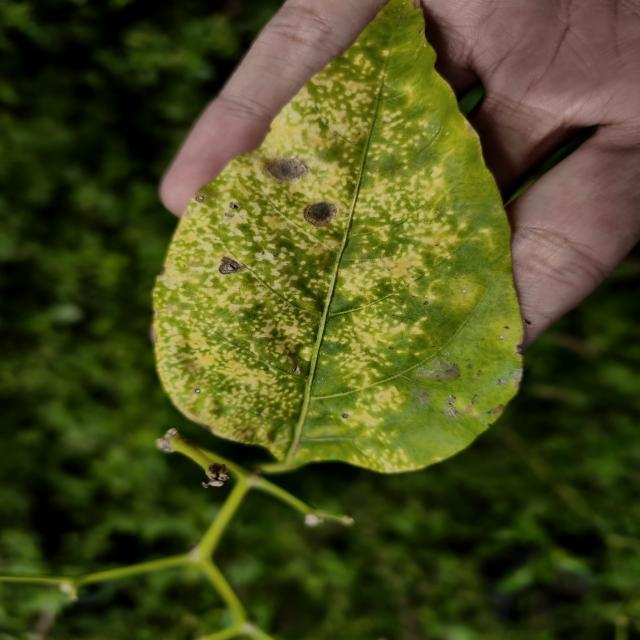Virus Kuning: (151, 1, 527, 476)
